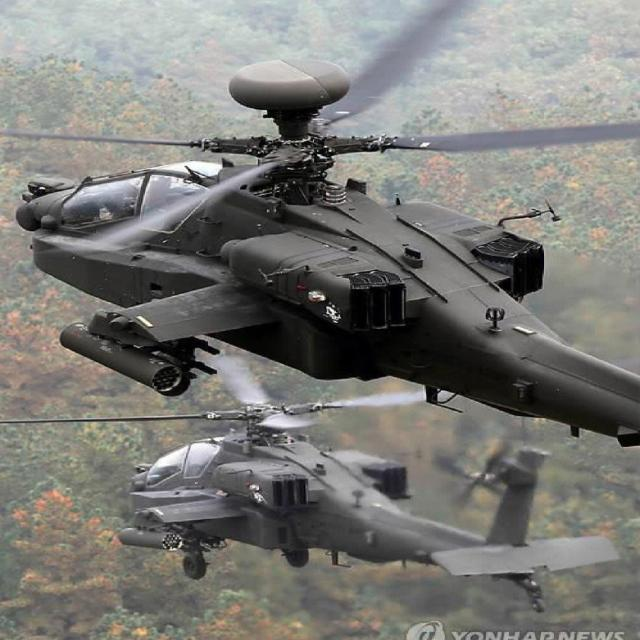MIL_HELO: (23, 0, 640, 450), (0, 362, 631, 614)
